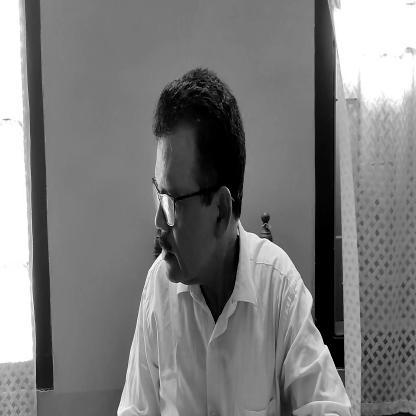Distracted: (147, 68, 240, 298)
